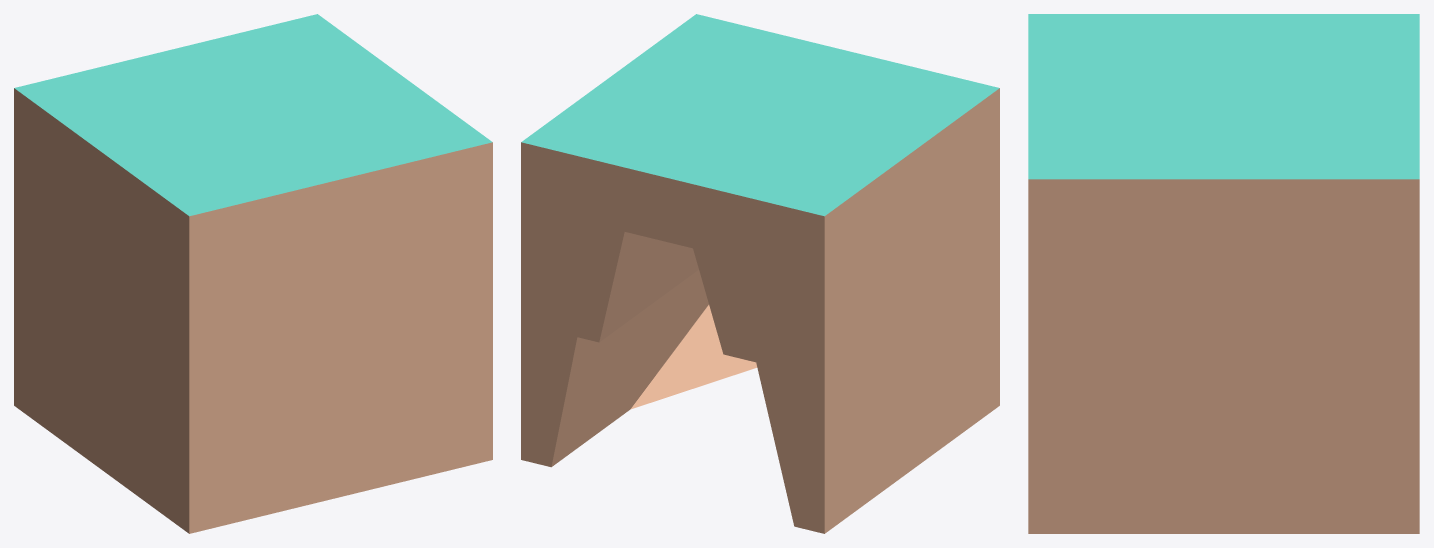
File: cliff_blockCave_rock.glb
3 views of the same model, side by side, from view 1: azimuth 30°, elevation 25°; view 2: azimuth 150°, elevation 25°; view 3: azimuth 270°, elevation 25° (orthographic). The views are drawn at different scales.
Visible parts, largest first — view 1: cliff_blockCave_rock; view 2: cliff_blockCave_rock; view 3: cliff_blockCave_rock.
Boxes of the visible parts, <box> form: cliff_blockCave_rock: <box>14,14,492,533</box>; cliff_blockCave_rock: <box>521,14,999,533</box>; cliff_blockCave_rock: <box>1028,14,1419,533</box>.
Bounding box in the file's own units: 1 × 1 × 1.
